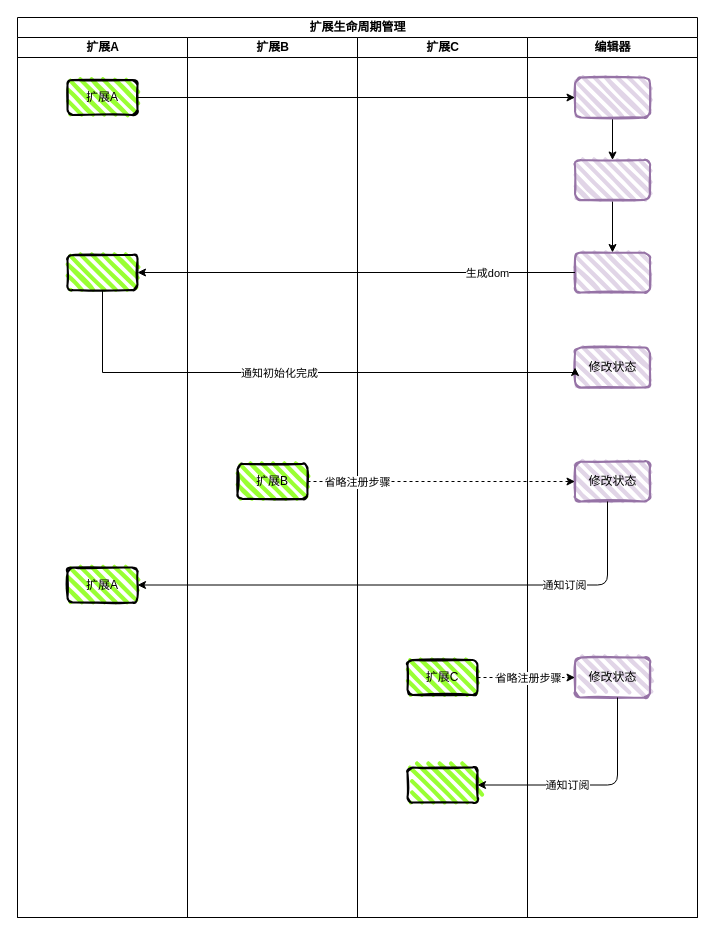
This 715x935 diagram has some shape labels left out. The box of each missing label's shape, as (x1, y1, x2, y2) in pixels:
ui库渲染: (66, 254, 138, 290)
回调: (406, 766, 478, 803)
扩展渲染: (574, 251, 650, 293)
扩展管理: (574, 76, 650, 118)
编辑器渲染: (574, 158, 650, 200)
